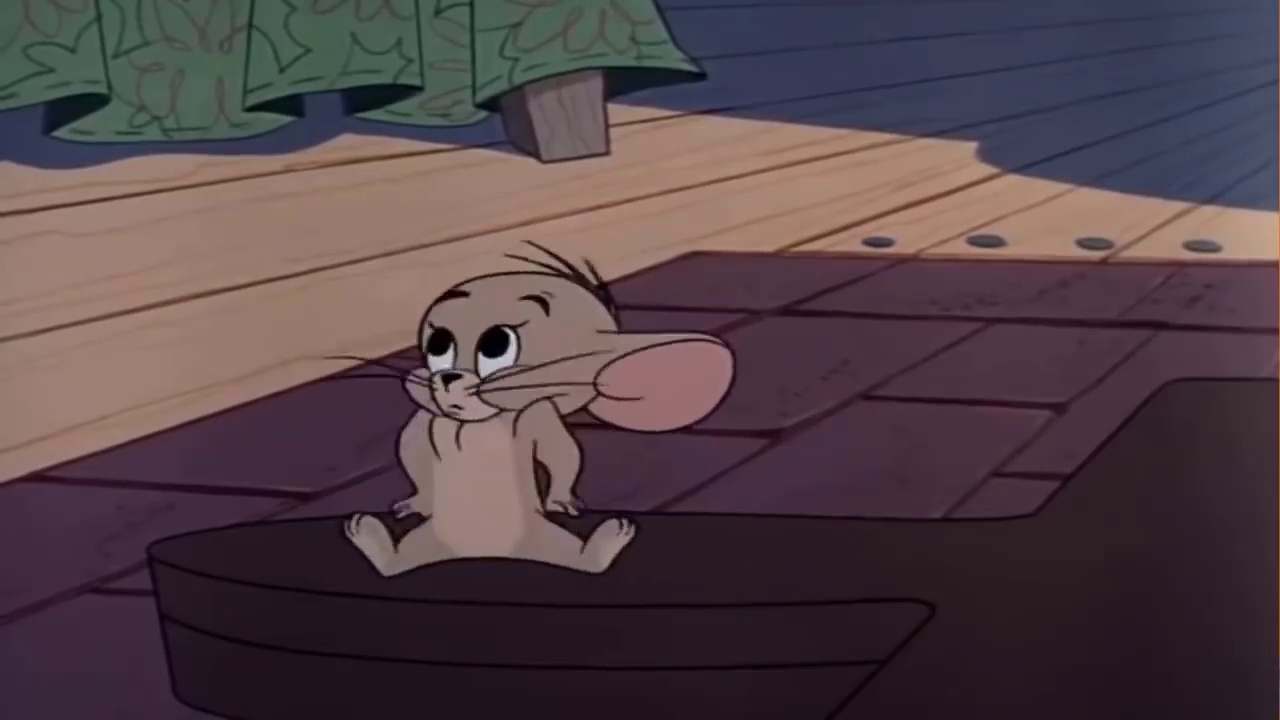face: (412, 286, 555, 423)
